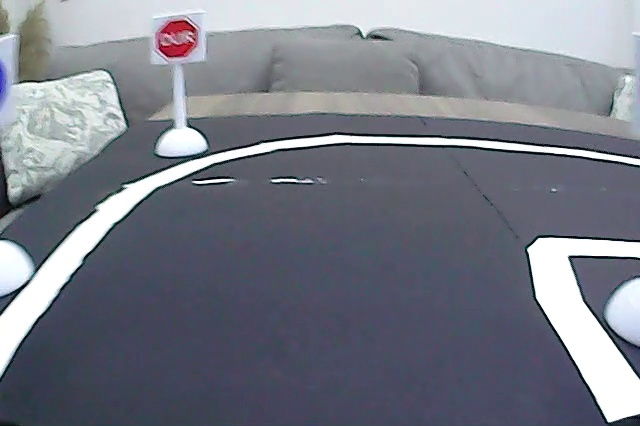stop sign: (154, 16, 202, 63)
